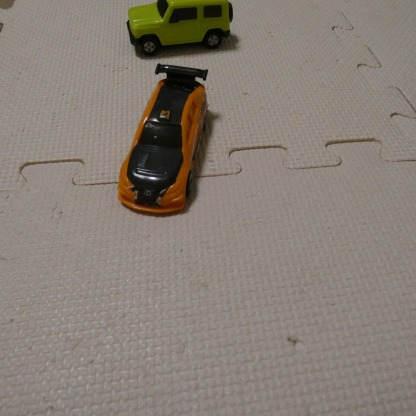car: (118, 65, 215, 221), (126, 0, 234, 57)
